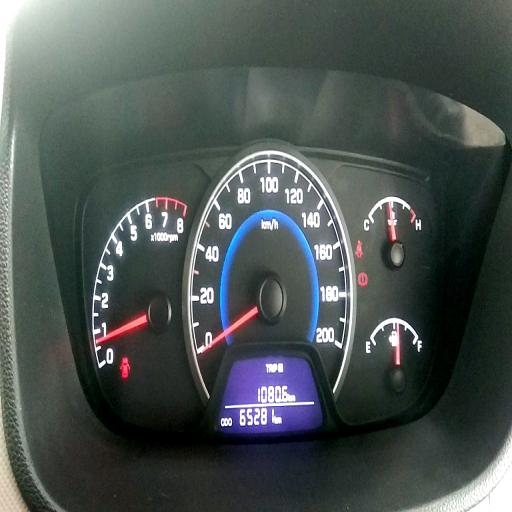belt: (355, 240, 363, 258)
brake_system_fault: (358, 272, 368, 287)
tachometer: (92, 195, 188, 397)
